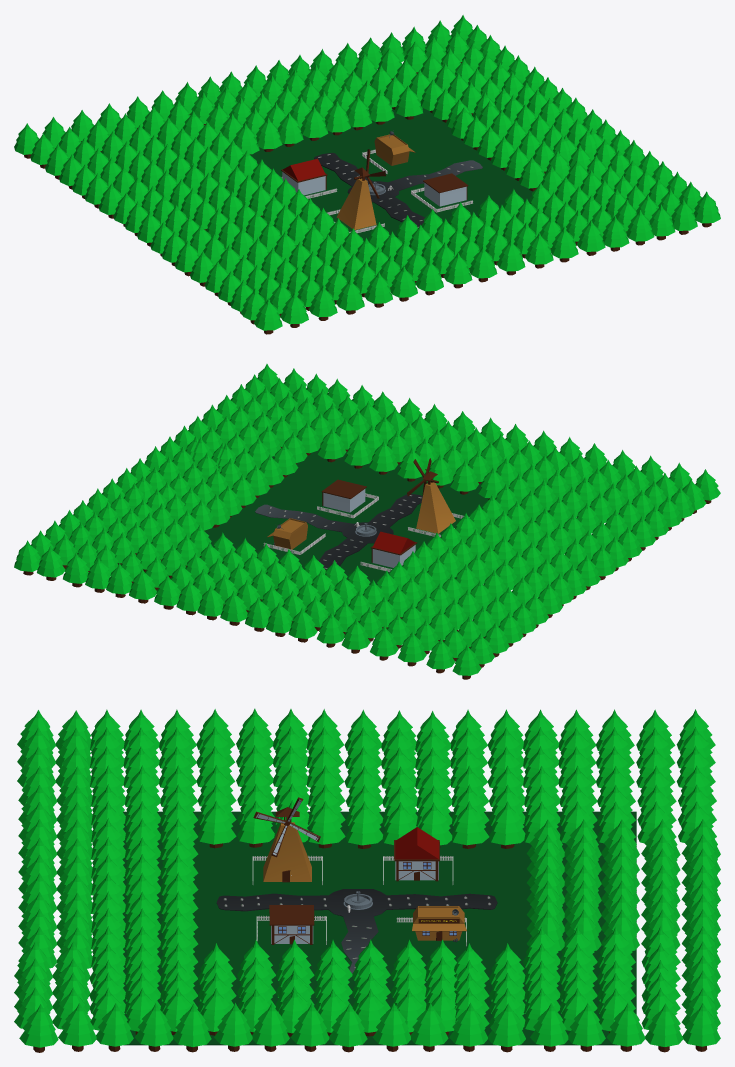
File: LUPO TOWN ESQUEMA2.fbx
3 views of the same model, one above another, from view 1: azimuth 30°, elevation 25°; view 2: azimuth 150°, elevation 25°; view 3: azimuth 270°, elevation 25° (orthographic). The views are drawn at different scales.
Visible parts, largest first — view 1: suelo, Cubo, MOLINO01, Casatopo01.001, pan01, PINO_EXTERIOR.361, PINO_EXTERIOR.343, PINO_EXTERIOR.111, PINO_EXTERIOR.055, PINO_EXTERIOR.434, PINO_EXTERIOR.261, PINO_EXTERIOR.370 (+22 smaller); view 2: suelo, Cubo, MOLINO01, Casatopo01.001, pan01, PINO_EXTERIOR.213, PINO_EXTERIOR.262, PINO_EXTERIOR.389, PINO_EXTERIOR.205, PINO_EXTERIOR.128, PINO_EXTERIOR.040, PINO_EXTERIOR.428 (+19 smaller); view 3: suelo, Cubo, MOLINO01, Casatopo01.001, pan01, PINO_EXTERIOR.334, PINO_EXTERIOR.277, PINO_EXTERIOR.283, PINO_EXTERIOR.286, PINO_EXTERIOR.307, PINO_EXTERIOR.319, PINO_EXTERIOR.289 (+240 smaller).
Part boxes in pixels (box(x1,y1,x2,y2)): suelo: box(250, 108, 533, 241); Cubo: box(314, 152, 482, 228); MOLINO01: box(336, 167, 376, 229); Casatopo01.001: box(281, 158, 327, 195); pan01: box(374, 134, 415, 165); PINO_EXTERIOR.361: box(496, 239, 525, 275); PINO_EXTERIOR.343: box(626, 209, 654, 245); PINO_EXTERIOR.111: box(443, 252, 472, 288); PINO_EXTERIOR.055: box(364, 272, 392, 307); PINO_EXTERIOR.434: box(390, 265, 417, 301); PINO_EXTERIOR.261: box(525, 232, 553, 268); PINO_EXTERIOR.370: box(576, 220, 605, 255); suelo: box(205, 447, 549, 618); Cubo: box(255, 494, 422, 569); MOLINO01: box(416, 471, 455, 533); Casatopo01.001: box(370, 531, 417, 567); pan01: box(267, 518, 307, 549); PINO_EXTERIOR.213: box(129, 568, 156, 603); PINO_EXTERIOR.262: box(37, 546, 65, 580); PINO_EXTERIOR.389: box(398, 631, 426, 666); PINO_EXTERIOR.205: box(288, 607, 317, 642); PINO_EXTERIOR.128: box(370, 625, 398, 660); PINO_EXTERIOR.040: box(341, 618, 370, 653); PINO_EXTERIOR.428: box(317, 612, 344, 647); suelo: box(122, 811, 636, 1045); Cubo: box(216, 889, 497, 973); MOLINO01: box(263, 807, 311, 881); Casatopo01.001: box(394, 827, 439, 880); pan01: box(412, 906, 466, 940); PINO_EXTERIOR.334: box(19, 1004, 58, 1052); PINO_EXTERIOR.277: box(530, 1003, 568, 1051); PINO_EXTERIOR.283: box(606, 1003, 645, 1051); PINO_EXTERIOR.286: box(645, 1003, 683, 1052); PINO_EXTERIOR.307: box(290, 1003, 329, 1051); PINO_EXTERIOR.319: box(134, 1003, 173, 1051); PINO_EXTERIOR.289: box(372, 1003, 410, 1051).
Size of the model in its own units: 28438 by 3967 by 27369.
